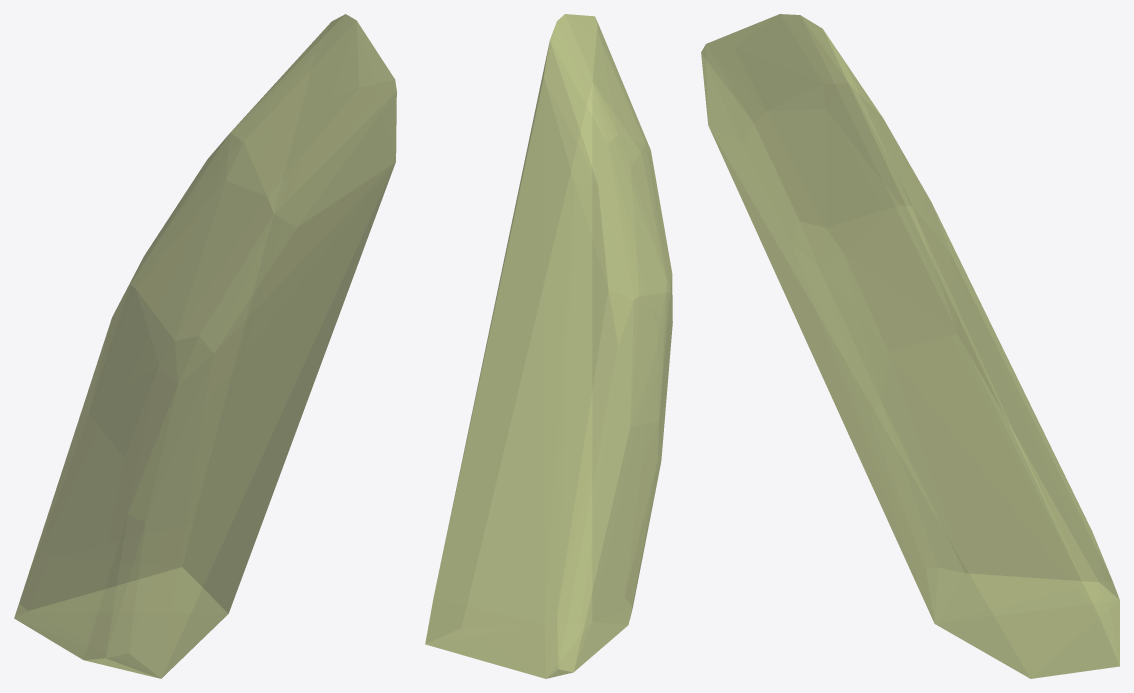
3 renders of one model, left to right at view 1: azimuth 30°, elevation 25°; view 2: azimuth 150°, elevation 25°; view 3: azimuth 270°, elevation 25°, orthographic. The views are drawn at different scales.
Parts seen in each view (by area): view 1: Shape_IndexedFaceSet.002_Shape_IndexedFaceSet.407; view 2: Shape_IndexedFaceSet.002_Shape_IndexedFaceSet.407; view 3: Shape_IndexedFaceSet.002_Shape_IndexedFaceSet.407.
Boxes of the visible parts, x1,y1,x2,y2 form: Shape_IndexedFaceSet.002_Shape_IndexedFaceSet.407: (14, 14, 396, 678); Shape_IndexedFaceSet.002_Shape_IndexedFaceSet.407: (425, 14, 672, 678); Shape_IndexedFaceSet.002_Shape_IndexedFaceSet.407: (701, 14, 1119, 678).
Bounding box in the file's own units: 0.1054 × 0.3875 × 0.2216.
